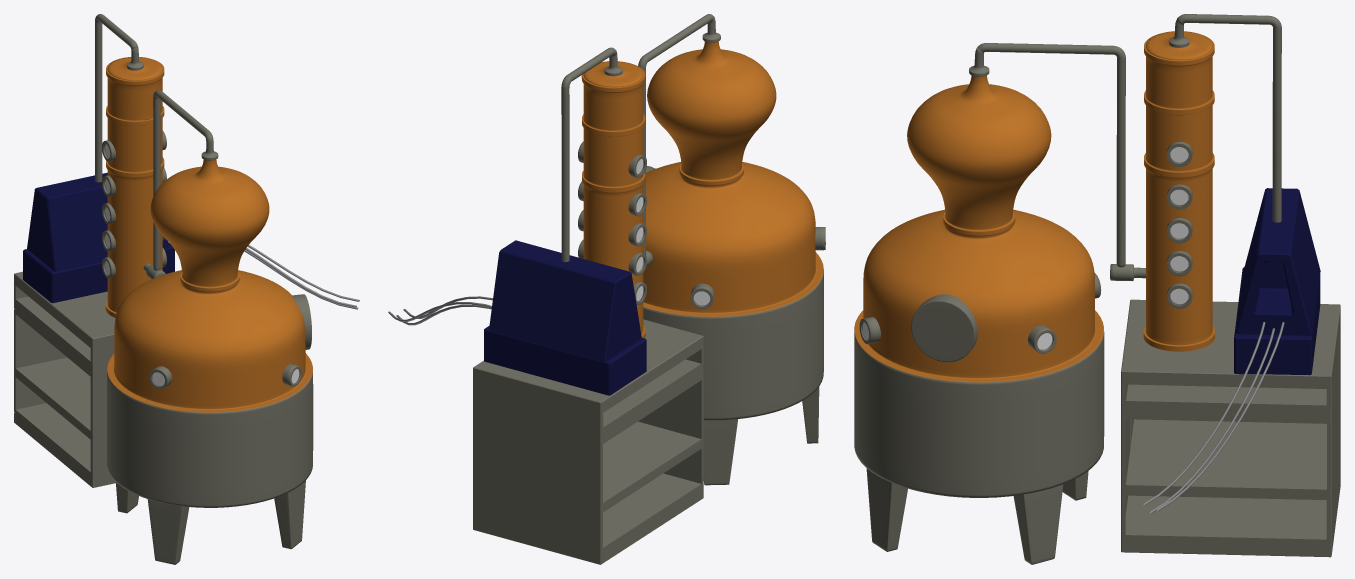
Rendered from fabrique_potion.fbx.
3 renders of one model, left to right at view 1: azimuth 30°, elevation 25°; view 2: azimuth 150°, elevation 25°; view 3: azimuth 270°, elevation 25°, orthographic. The views are drawn at different scales.
Visible parts, largest first — view 1: Distillerie, Etagere, Sortie potion, BezierCurve; view 2: Distillerie, Etagere, Sortie potion, BezierCurve; view 3: Distillerie, Etagere, Sortie potion, BezierCurve.
Boxes of the visible parts, <box> form: Distillerie: <box>95,14,313,564</box>; Etagere: <box>14,271,115,487</box>; Sortie potion: <box>23,172,174,303</box>; BezierCurve: <box>244,245,359,309</box>; Distillerie: <box>561,14,825,485</box>; Etagere: <box>473,319,703,564</box>; Sortie potion: <box>484,240,646,395</box>; BezierCurve: <box>388,296,492,325</box>; Distillerie: <box>854,14,1281,564</box>; Etagere: <box>1121,299,1340,557</box>; Sortie potion: <box>1234,188,1320,375</box>; BezierCurve: <box>1143,322,1284,513</box>.
Bounding box in the file's own units: 282 × 363 × 313.
